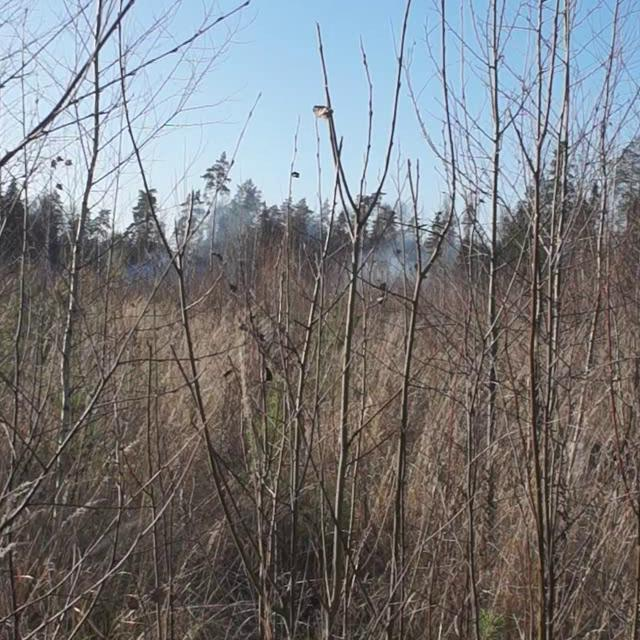Smoke: (128, 205, 244, 288), (341, 222, 445, 286)
